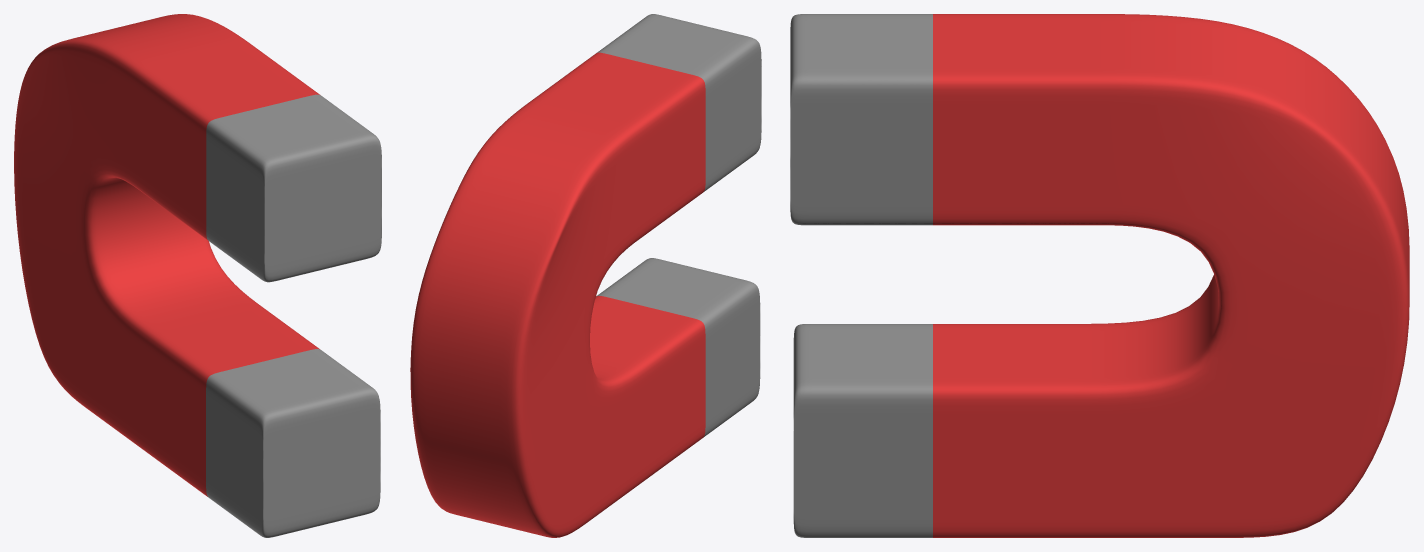
File: bon_magnit.fbx
3 views of the same model, side by side, from view 1: azimuth 30°, elevation 25°; view 2: azimuth 150°, elevation 25°; view 3: azimuth 270°, elevation 25° (orthographic). The views are drawn at different scales.
Parts seen in each view (by area): view 1: Cube; view 2: Cube; view 3: Cube.
Part boxes in pixels (box(x1,y1,x2,y2)): Cube: box(14, 14, 381, 537); Cube: box(410, 14, 761, 537); Cube: box(790, 14, 1409, 537).
Size of the model in its own units: 106 by 309 by 376.
